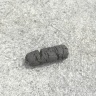Dog: (25, 44, 69, 66)
